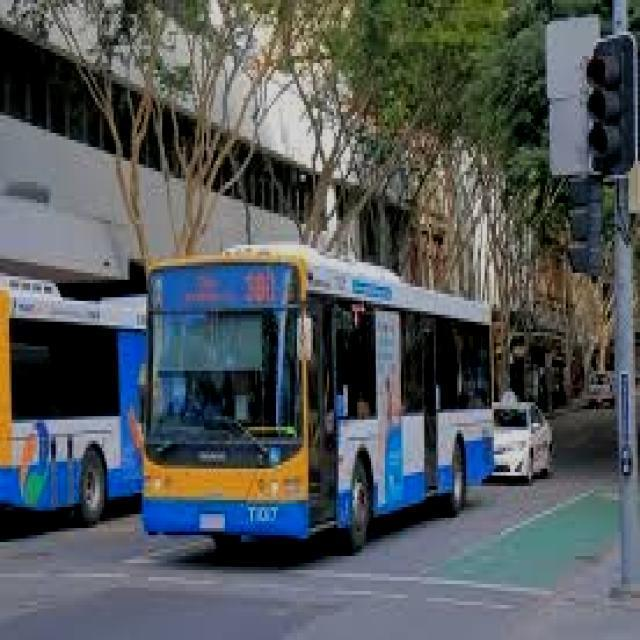Bus: (144, 210, 508, 549), (1, 259, 147, 539)
